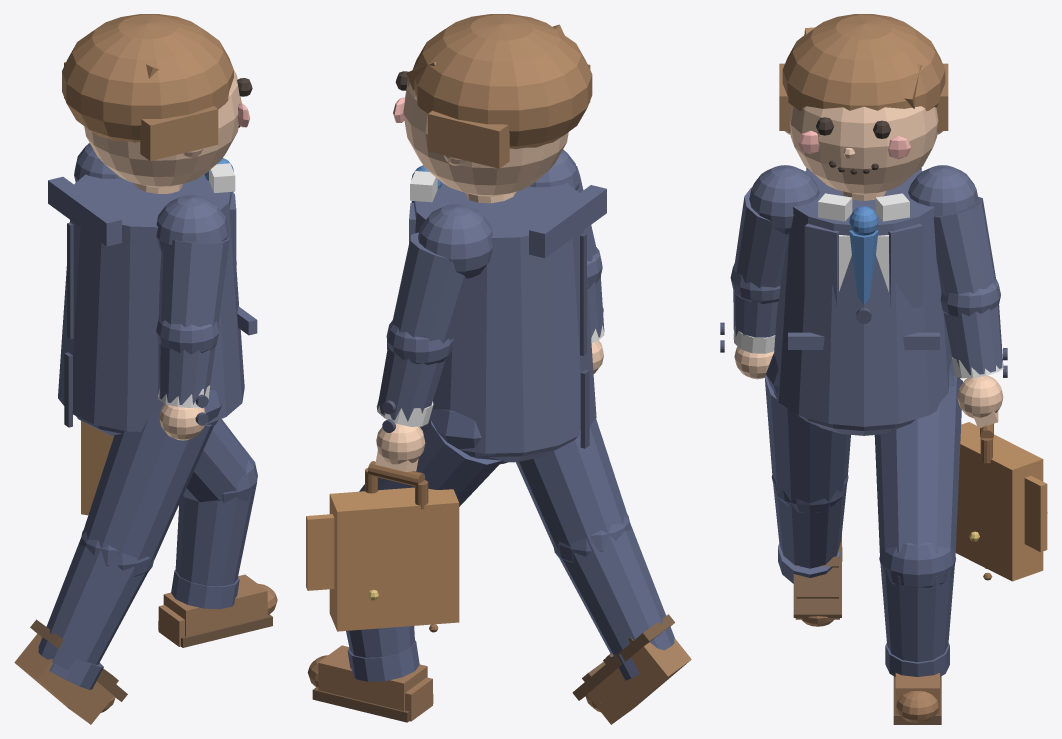
The model's file is 41-businessman-with-briefcase.glb.
3 renders of one model, left to right at view 1: azimuth 30°, elevation 25°; view 2: azimuth 150°, elevation 25°; view 3: azimuth 270°, elevation 25°, orthographic. The views are drawn at different scales.
Parts seen in each view (by area): view 1: JacketTorso, HairCap, LegR_Thigh, LegR_Shin, LegL_Shin, SleeveR_Upper, Head, LegL_Thigh, HairSideR, ShoulderR, ShoeL_Foot, ShoeR_Foot (+17 smaller); view 2: JacketTorso, HairCap, CaseBody, LegR_Thigh, LegR_Shin, Head, SleeveL_Upper, ShoulderL, ShoeR_Foot, LegL_Thigh, HairSideL, ShoeL_Foot (+19 smaller); view 3: JacketTorso, HairCap, LegL_Thigh, CaseBody, Head, LegR_Thigh, LegL_Shin, SleeveL_Upper, LegR_Shin, SleeveR_Upper, ShoulderR, SleeveL_Fore (+27 smaller).
Boxes of the visible parts, x1,y1,x2,y2 form: JacketTorso: (58,174,244,431); HairCap: (62,14,233,142); LegR_Thigh: (82,411,213,564); LegR_Shin: (38,537,148,669); LegL_Shin: (175,483,256,586); SleeveR_Upper: (158,237,229,327); Head: (84,70,241,187); LegL_Thigh: (183,419,251,502); HairSideR: (140,106,218,161); ShoulderR: (156,194,228,252); ShoeL_Foot: (163,574,267,636); ShoeR_Foot: (14,634,113,724); JacketTorso: (414,182,596,453); HairCap: (412,14,592,149); CaseBody: (329,487,459,631); LegR_Thigh: (516,419,628,550); LegR_Shin: (558,521,674,655); Head: (403,79,568,196); SleeveL_Upper: (392,232,471,343); ShoulderL: (418,204,492,278); ShoeR_Foot: (587,638,691,724); LegL_Thigh: (359,420,502,506); HairSideL: (428,110,509,168); ShoeL_Foot: (318,645,427,710); JacketTorso: (773,169,951,426); HairCap: (782,14,945,110); LegL_Thigh: (874,375,962,555); CaseBody: (955,422,1043,581); Head: (789,106,938,194); LegR_Thigh: (765,375,850,503); LegL_Shin: (880,565,954,662); SleeveL_Upper: (933,197,995,297); LegR_Shin: (773,485,846,568); SleeveR_Upper: (734,187,787,287); ShoulderR: (749,165,819,234); SleeveL_Fore: (943,305,1003,375).
Bounding box in the file's own units: 0.8839 × 1.84 × 0.8524.
